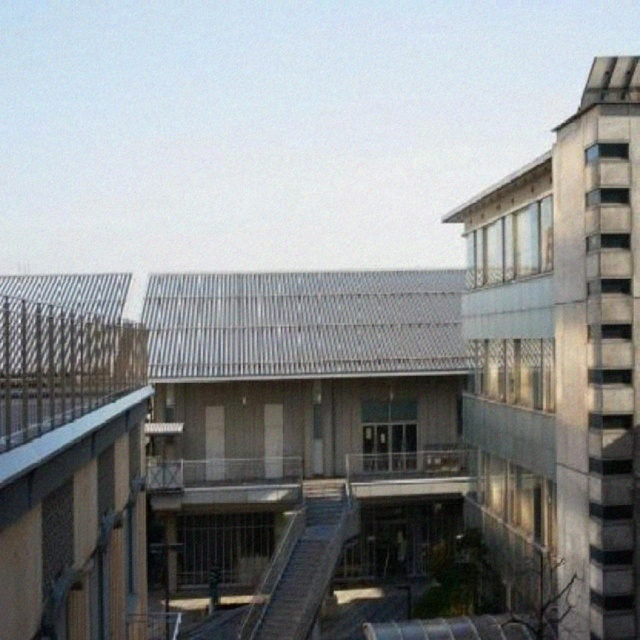stair: (246, 491, 354, 640)
